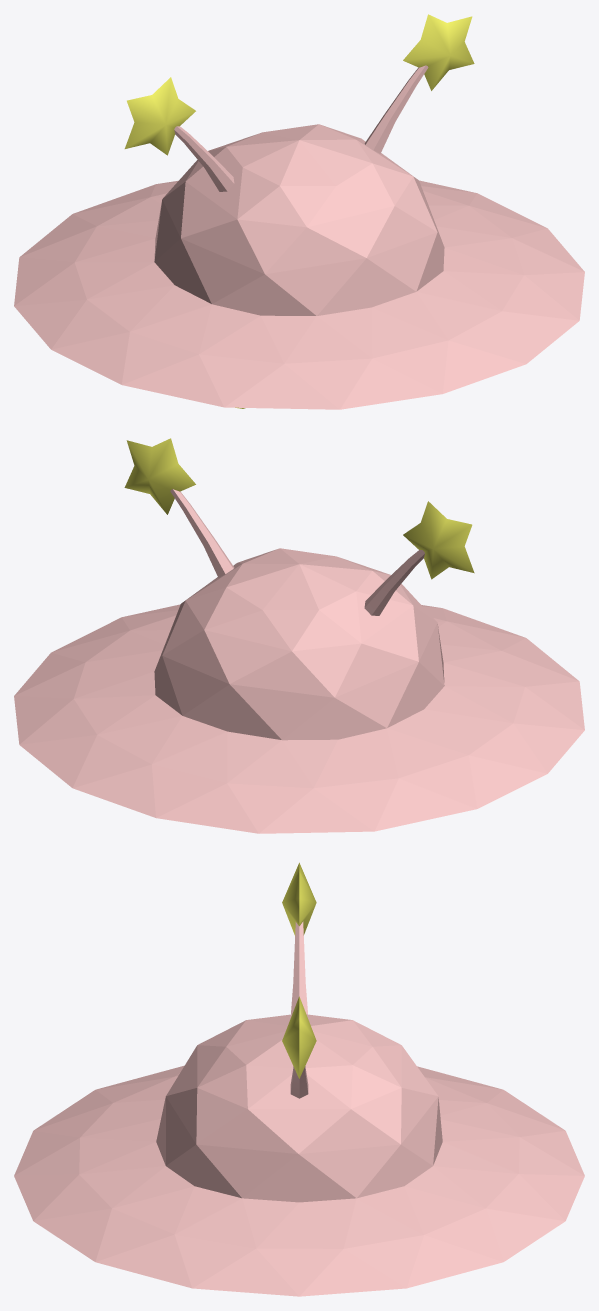
The model's file is MD_UFO_prototype.fbx.
3 views of the same model, one above another, from view 1: azimuth 30°, elevation 25°; view 2: azimuth 150°, elevation 25°; view 3: azimuth 270°, elevation 25° (orthographic).
Visible parts, largest first — view 1: pCube6, pCylinder5, pCylinder4; view 2: pCube6, pCylinder5, pCylinder4; view 3: pCube6, pCylinder5, pCylinder4.
Part boxes in pixels (<box>): pCube6: <box>14,124,584,409</box>; pCylinder5: <box>124,14,474,155</box>; pCylinder4: <box>174,65,428,191</box>; pCube6: <box>14,548,584,833</box>; pCylinder5: <box>124,438,474,579</box>; pCylinder4: <box>170,489,424,615</box>; pCube6: <box>14,1014,584,1296</box>; pCylinder5: <box>282,862,316,1078</box>; pCylinder4: <box>290,921,308,1098</box>.
Size of the model in its own units: 764 by 429 by 764.
